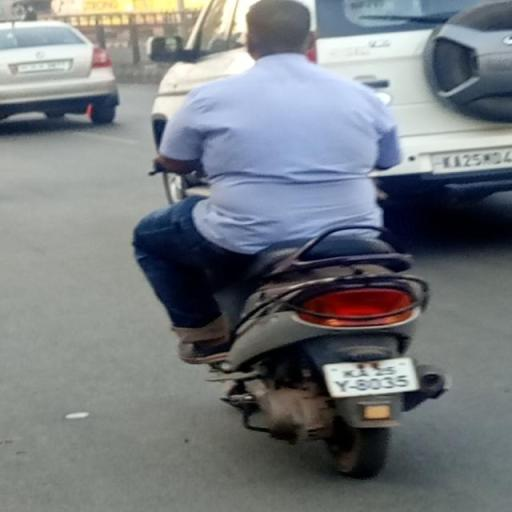bike: (114, 0, 454, 478)
numberplate: (318, 351, 422, 402)
withouthelmet: (248, 0, 311, 54)
